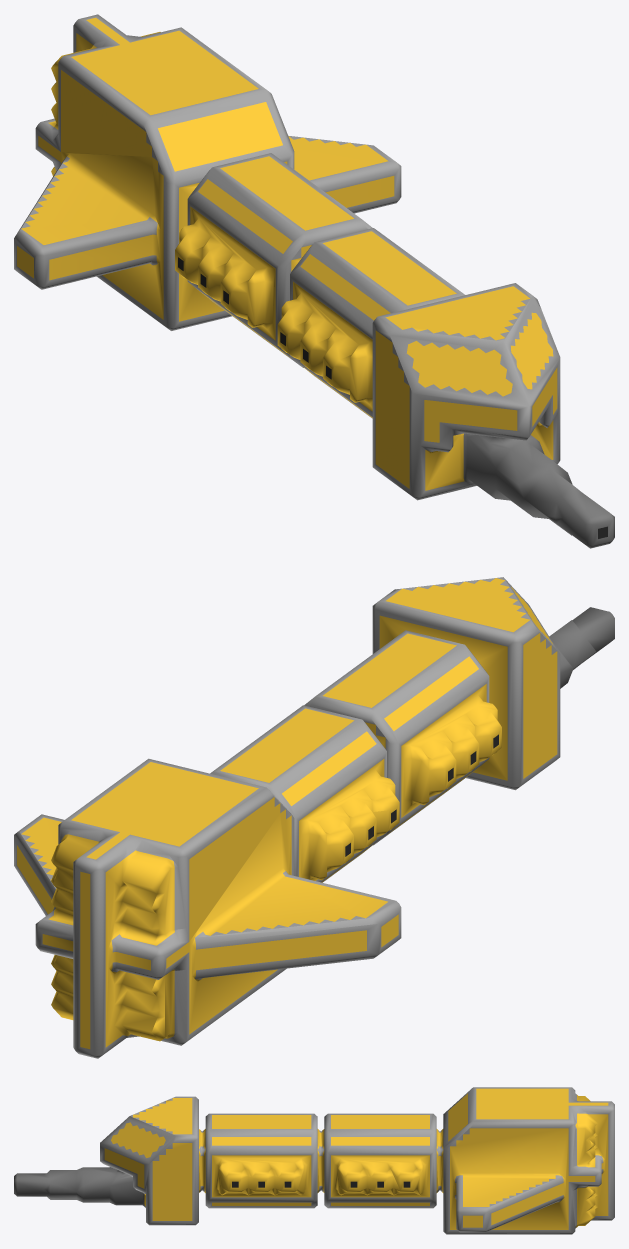
The model's file is mechyrdia-3-mundus-caesaris-divi-class.obj.
3 views of the same model, one above another, from view 1: azimuth 30°, elevation 25°; view 2: azimuth 150°, elevation 25°; view 3: azimuth 270°, elevation 25° (orthographic). The views are drawn at different scales.
Bounding box in the file's own units: 37 × 19 × 91.
1 material, 1 textured.
